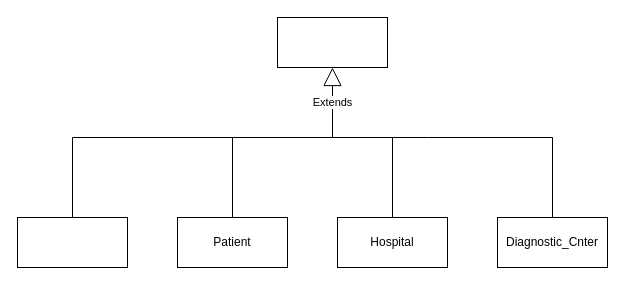
This 625x285 diagram has some shape labels left out. The centre of each missing label's shape, as x and y in pixels:
Doctor: the point at 72,242
User_Details: the point at 332,42
